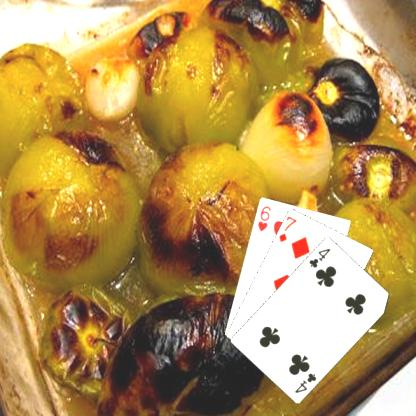4C: (306, 245, 332, 269), (292, 370, 318, 394)
6H: (254, 203, 272, 233)
7D: (276, 214, 298, 244)
